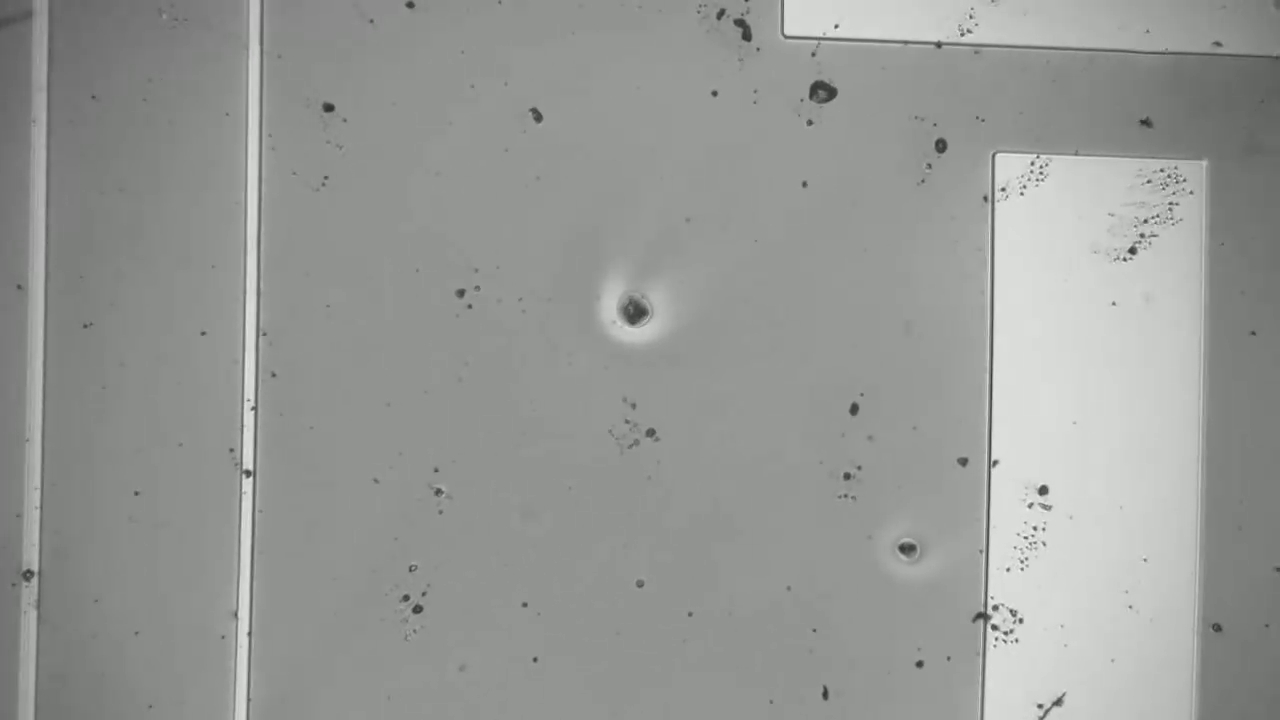stains_enbedded: (12, 558, 47, 589), (236, 463, 265, 483)
